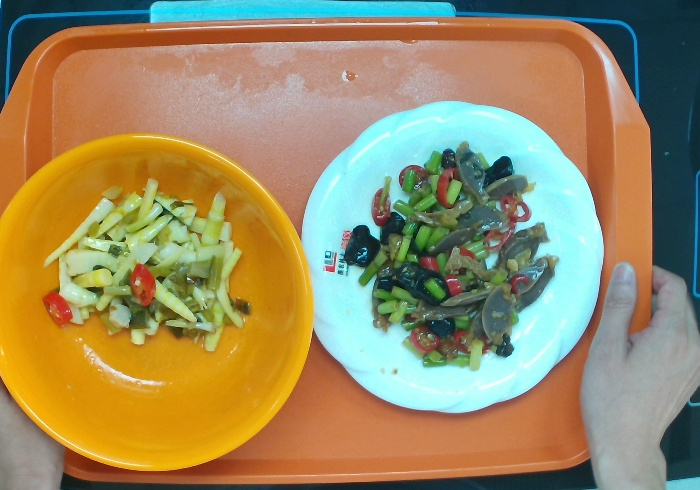ZNLD-Hua_Bian_Wan: (297, 98, 606, 419)
ZNLD-Ju_Se_Tang_Wan: (1, 133, 315, 476)
